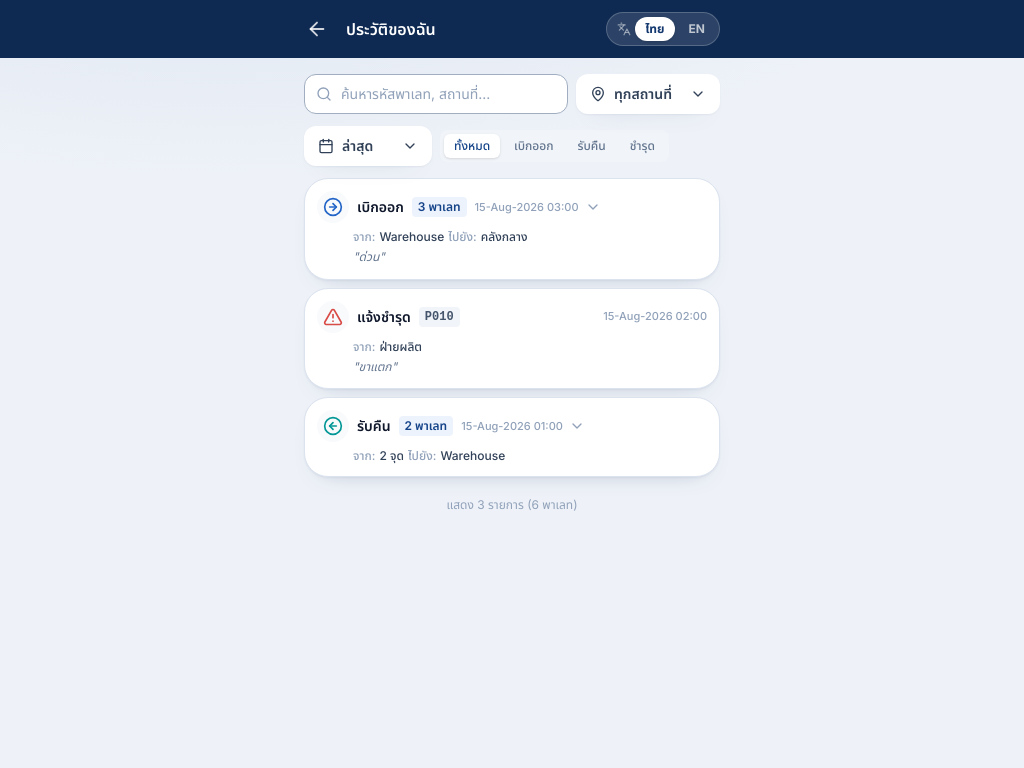
Scenario: MobileHistory -- การจัดกลุ่มเป็นชุด › กดซ้ำแล้วยุบกลับ
Click the button "เบิกออก": (512, 229) [317,191,707,266]
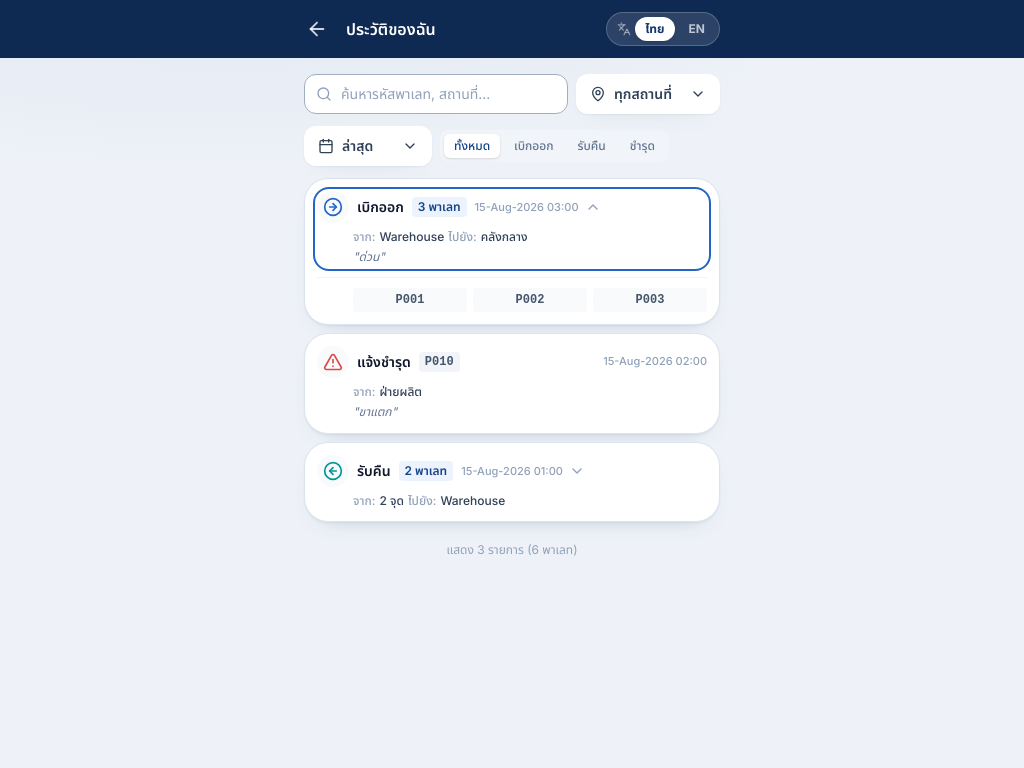
Click the button "เบิกออก": (512, 229) [317,191,707,266]
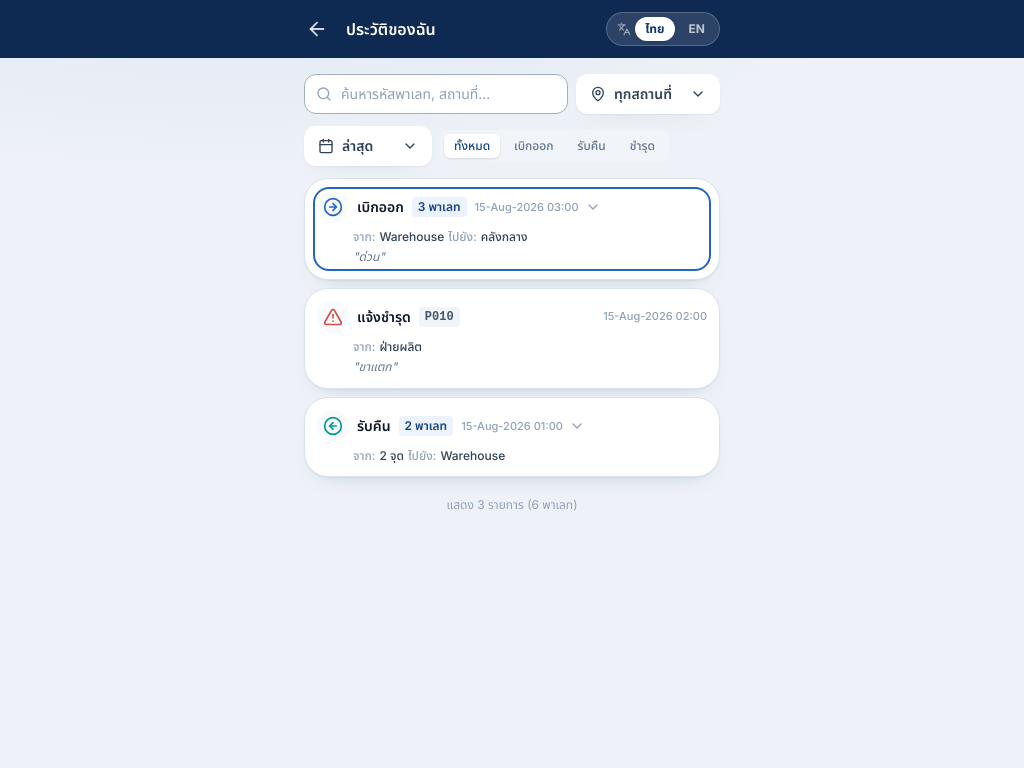
Result: the button "เบิกออก" is collapsed at [317,191,707,266]
Result: the list is gone
